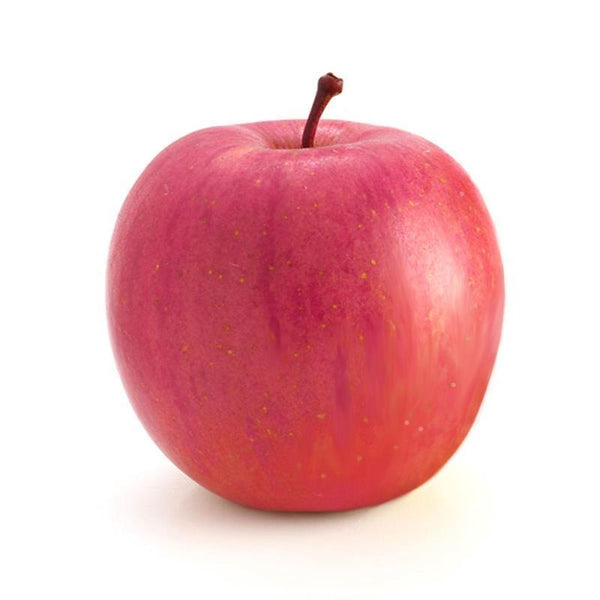apple: (104, 69, 508, 516)
